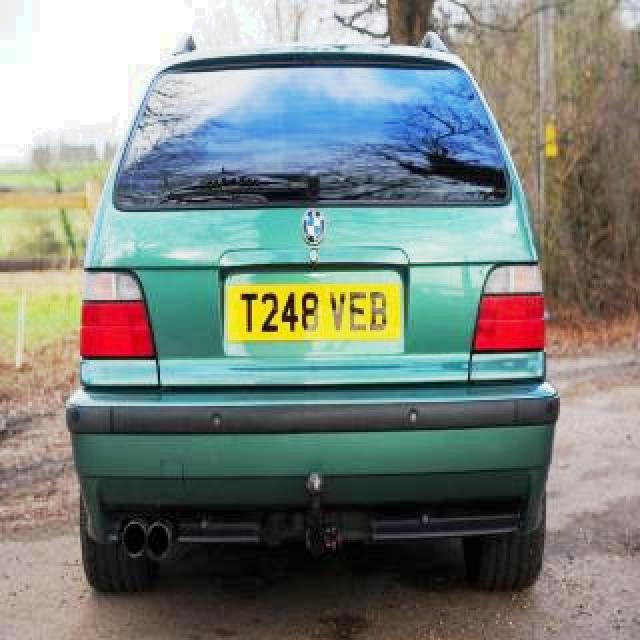license_plate: (225, 284, 404, 341)
